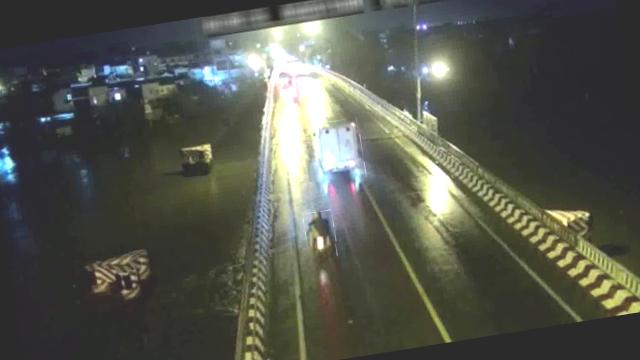Bike: (302, 209, 339, 262)
Truck: (312, 118, 367, 184)
